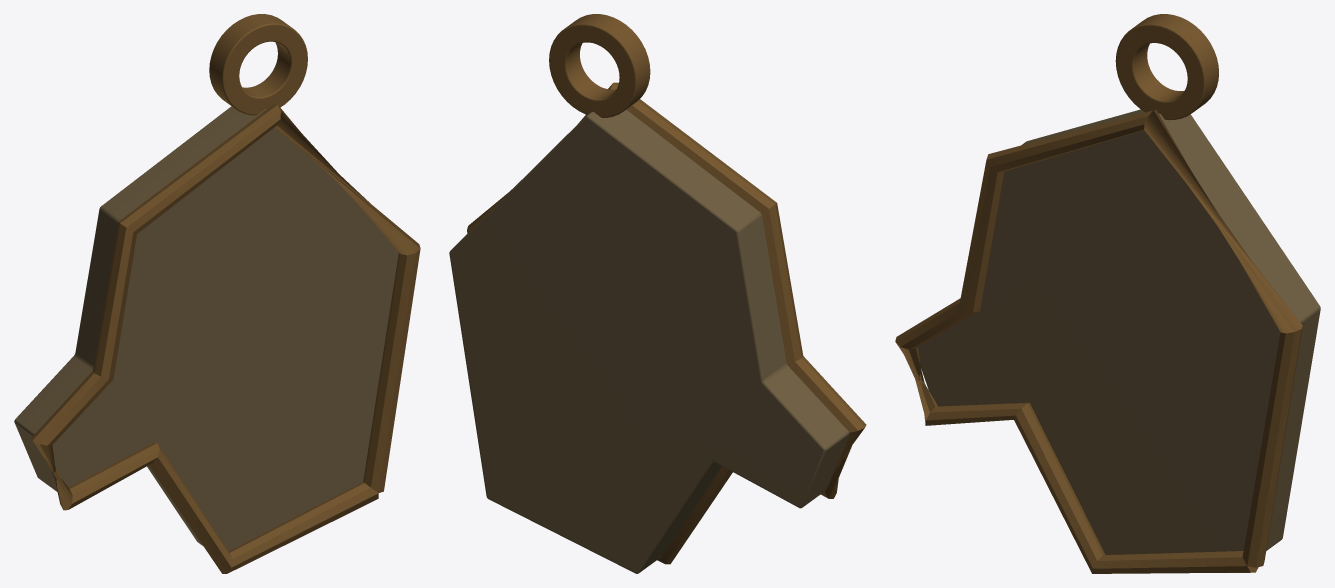
The model's file is D02_PendantKey.fbx.
3 views of the same model, side by side, from view 1: azimuth 30°, elevation 25°; view 2: azimuth 150°, elevation 25°; view 3: azimuth 330°, elevation 25° (orthographic). The views are drawn at different scales.
Parts seen in each view (by area): view 1: PendantBody_Mesh, MetalBezel_Mesh, Bail_Mesh; view 2: PendantBody_Mesh, MetalBezel_Mesh, Bail_Mesh; view 3: PendantBody_Mesh, MetalBezel_Mesh, Bail_Mesh.
Part boxes in pixels (x1,y1,x2,y2): PendantBody_Mesh: (14, 106, 398, 551); MetalBezel_Mesh: (31, 104, 420, 573); Bail_Mesh: (209, 14, 307, 115); PendantBody_Mesh: (449, 109, 849, 573); MetalBezel_Mesh: (467, 82, 866, 564); Bail_Mesh: (549, 14, 650, 117); PendantBody_Mesh: (918, 109, 1320, 554); MetalBezel_Mesh: (895, 110, 1302, 573); Bail_Mesh: (1115, 14, 1218, 120).
Bounding box in the file's own units: 0.0315 × 0.0412 × 0.0049.
